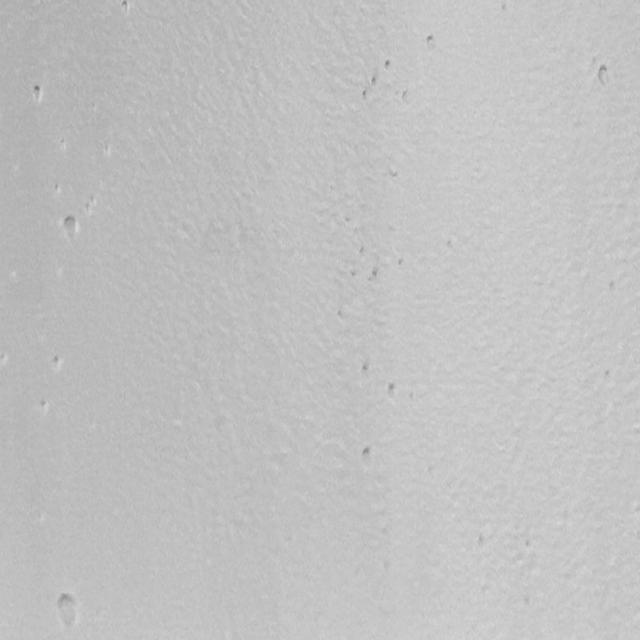pin holes: (53, 590, 84, 634), (58, 212, 82, 242), (594, 62, 616, 88), (30, 80, 48, 104), (384, 381, 403, 403), (358, 442, 376, 464), (85, 192, 98, 218), (387, 163, 401, 184), (423, 34, 439, 52), (50, 353, 65, 372), (360, 361, 375, 378), (348, 266, 360, 286), (357, 240, 369, 260), (337, 302, 347, 324), (360, 86, 372, 103), (120, 0, 133, 15), (370, 266, 382, 282), (40, 400, 52, 415), (382, 58, 394, 72), (52, 184, 64, 198), (370, 76, 380, 89)
